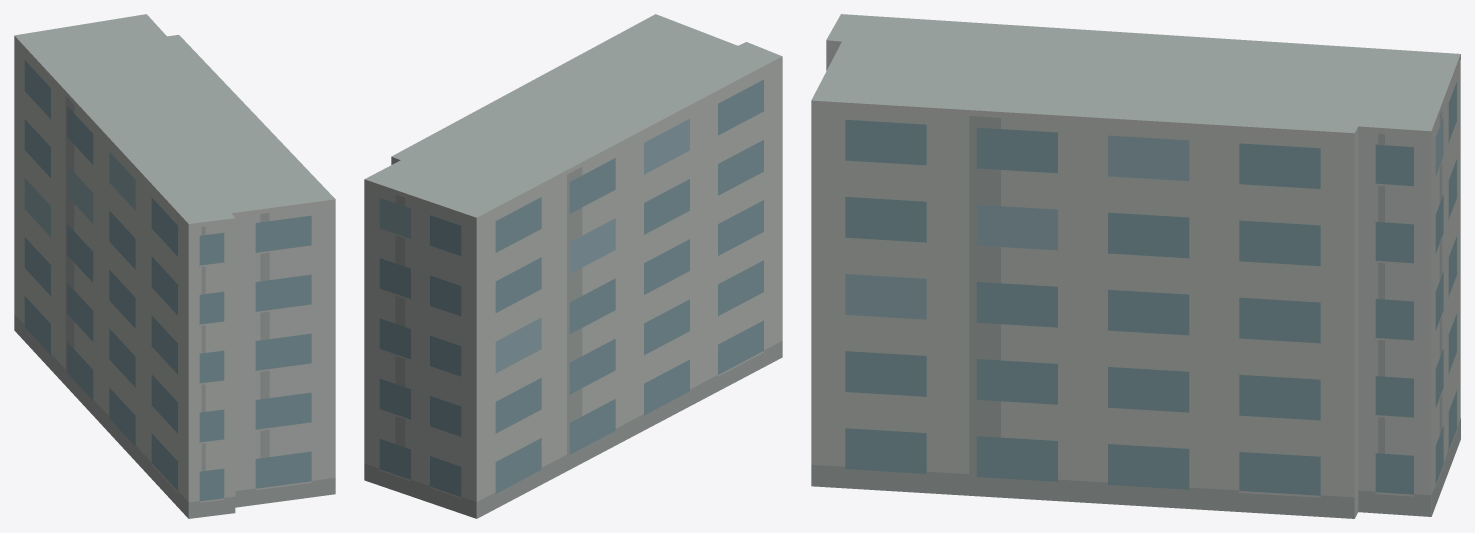
File: survey-upis-32797441.glb
3 renders of one model, left to right at view 1: azimuth 30°, elevation 25°; view 2: azimuth 150°, elevation 25°; view 3: azimuth 270°, elevation 25°, orthographic. The views are drawn at different scales.
Visible parts, largest first — view 1: survey-upis-32797441.tmp; view 2: survey-upis-32797441.tmp; view 3: survey-upis-32797441.tmp.
Part boxes in pixels (left/top/right/bottom): survey-upis-32797441.tmp: left=14, top=14, right=335, bottom=518; survey-upis-32797441.tmp: left=364, top=14, right=782, bottom=518; survey-upis-32797441.tmp: left=811, top=14, right=1460, bottom=518.
Bounding box in the file's own units: 10.62 × 16 × 24.43.
